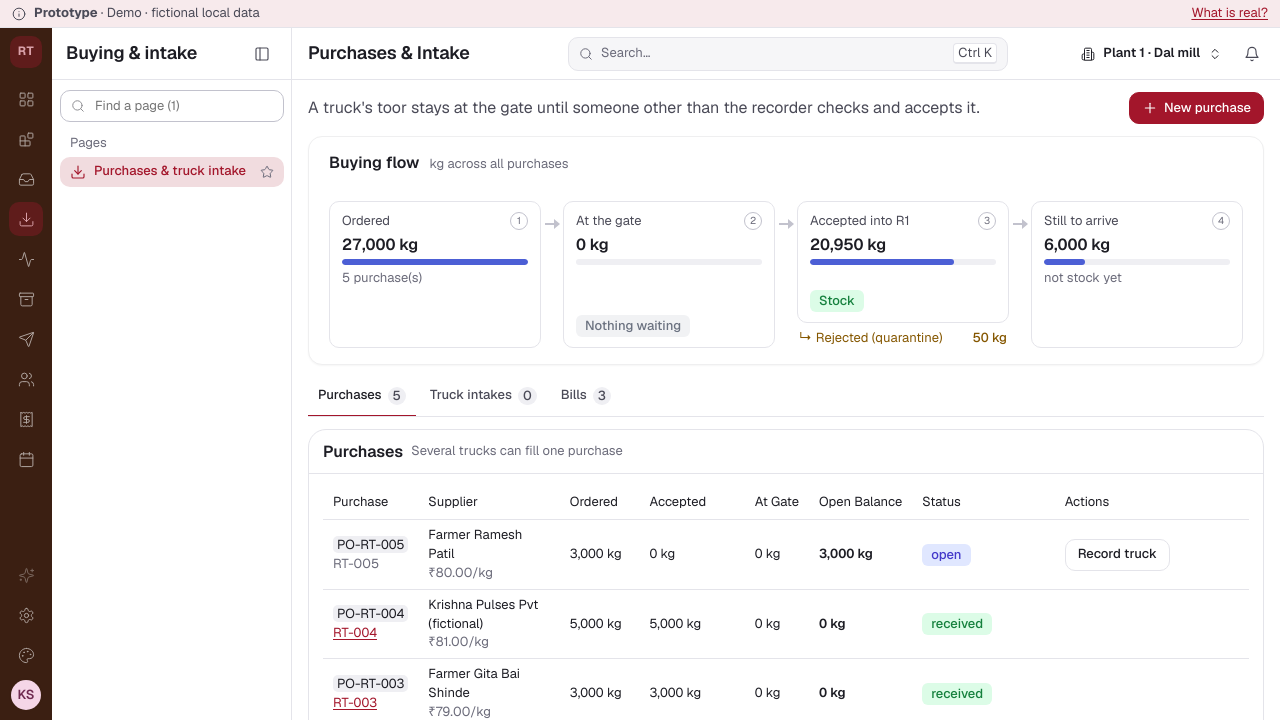
truck intake photo evidence › requires a slip photo, stores it on the intake and shows it to the checker after refresh
This screenshot has width=1280, height=720.
Later steps or results of the test are not shown.
Click the button "Record truck".
click(1117, 554)  # box [1065,538,1170,570]
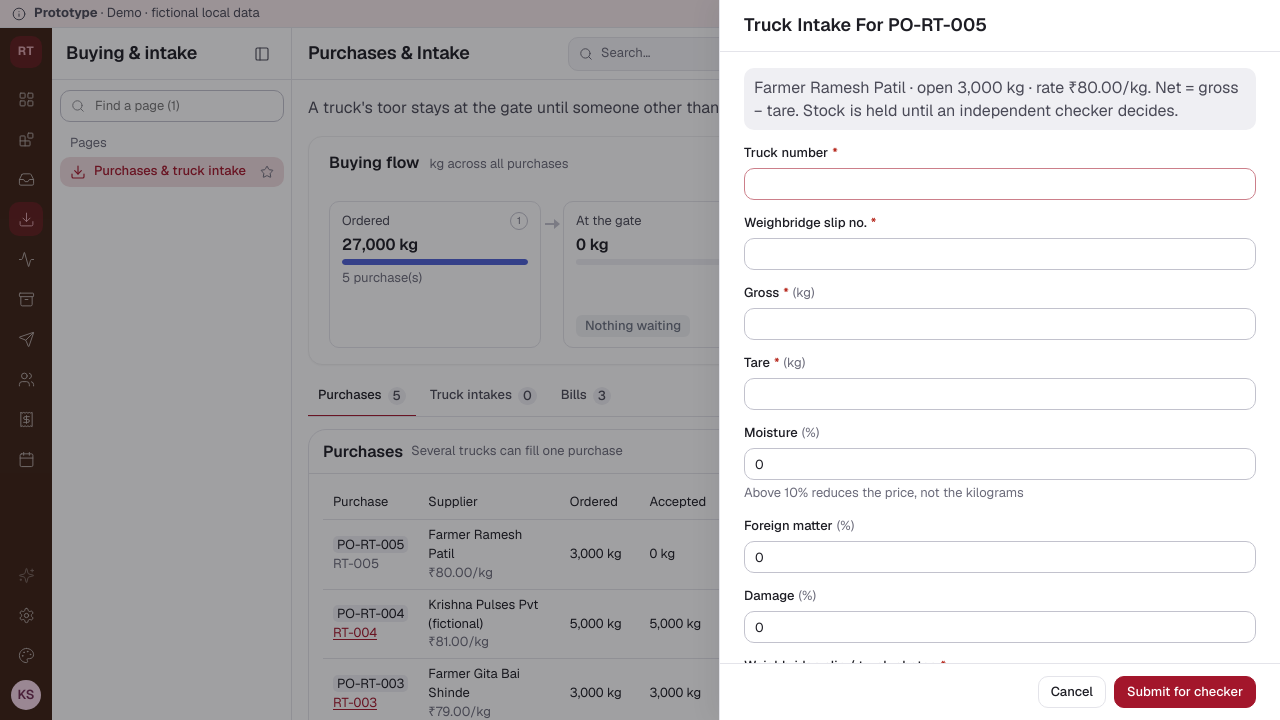
Type "MH12-ZZ-0001" into the field labelled "Truck number *".
click(1000, 184); type("MH12-ZZ-0001")  # box [744,168,1256,200]
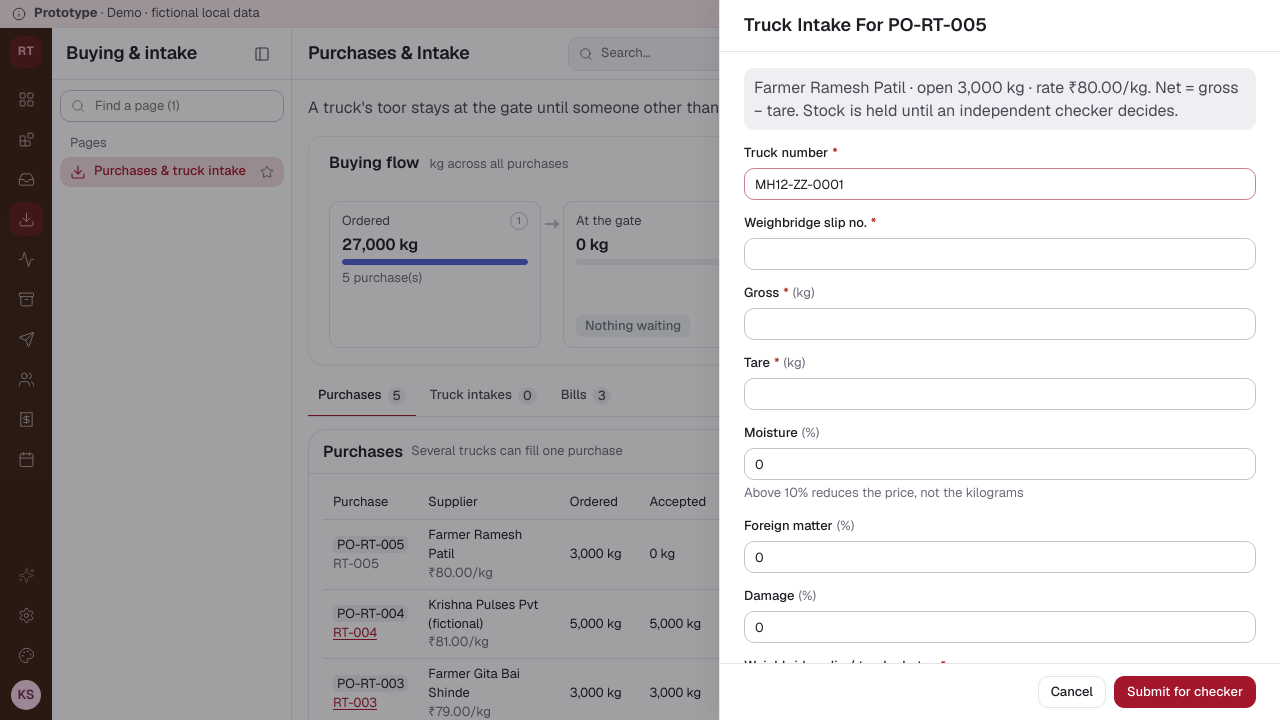
Type "WB-99001" into the field labelled "Weighbridge slip no. *".
click(1000, 254); type("WB-99001")  # box [744,238,1256,270]
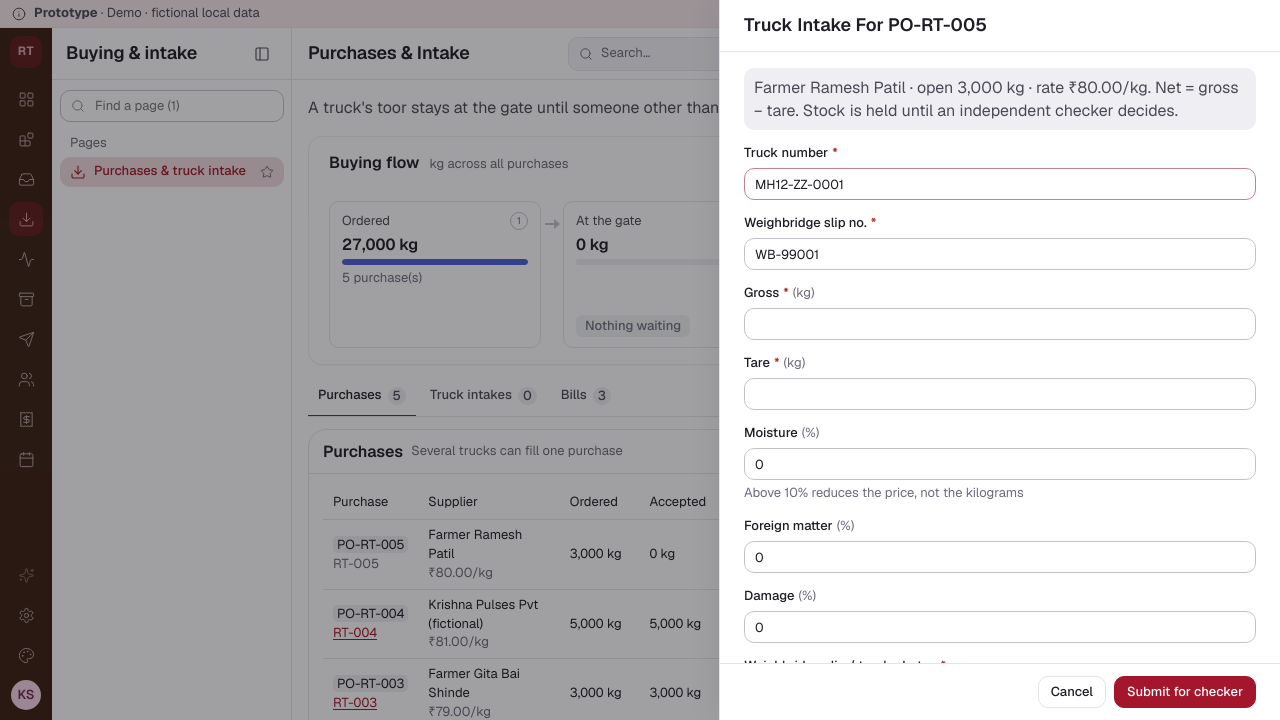
Type "1200" into the number field labelled "Gross * (kg)".
click(1000, 324); type("1200")  # box [744,308,1256,340]
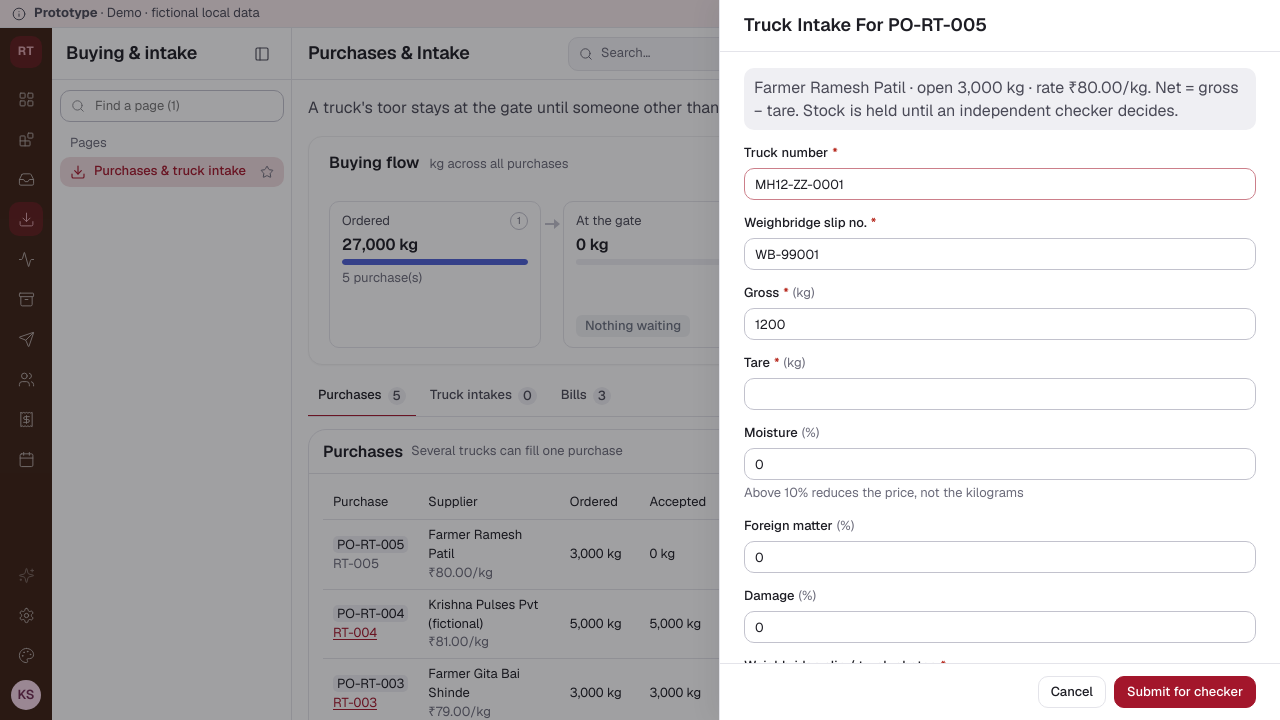
Type "1000" into the number field labelled "Tare * (kg)".
click(1000, 394); type("1000")  # box [744,378,1256,410]
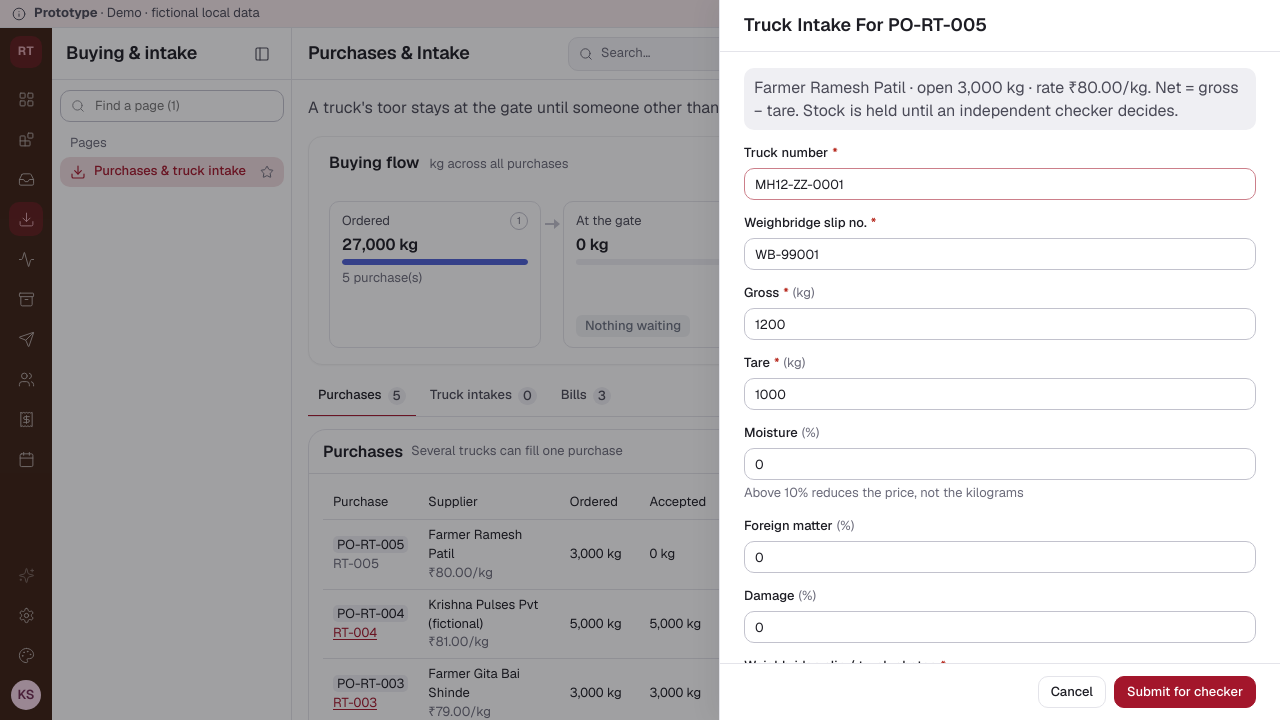
Click the button "Submit for checker".
click(1185, 692)  # box [1114,676,1256,708]
(page scrolled)
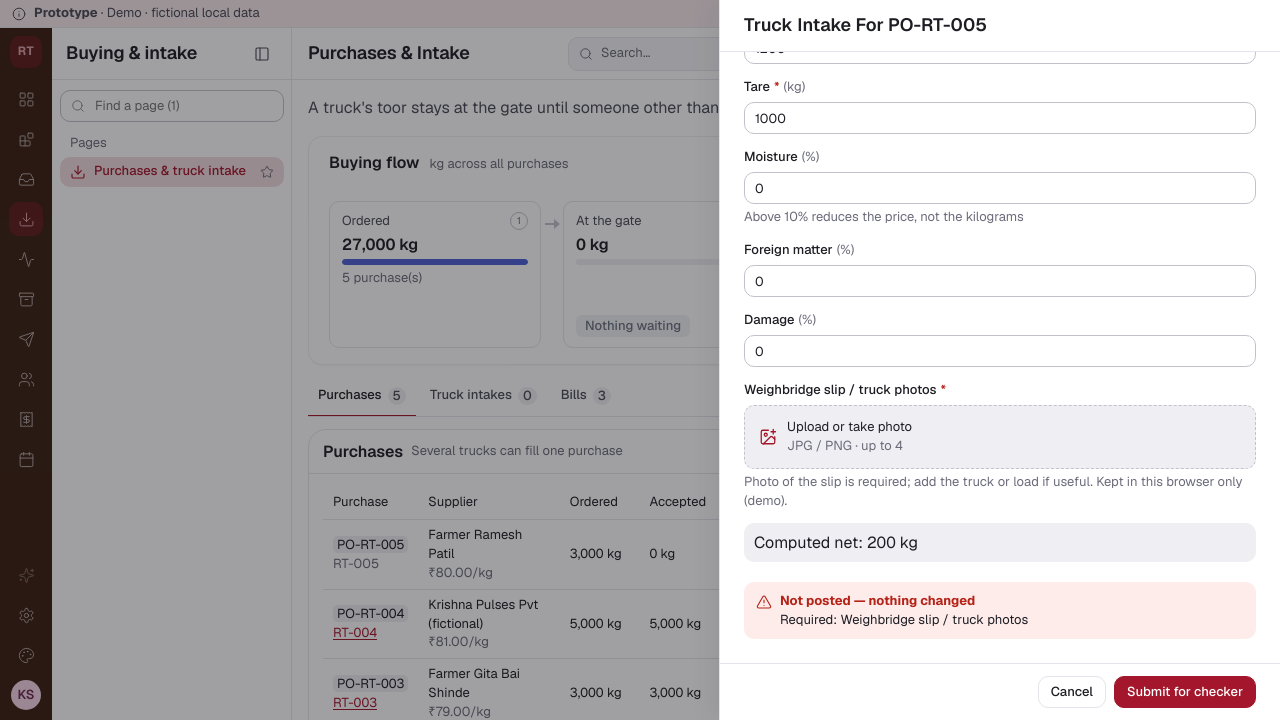
expect the text "Required: Weighbridge slip / truck photos" is shown: met, box [780,611,1028,629]
